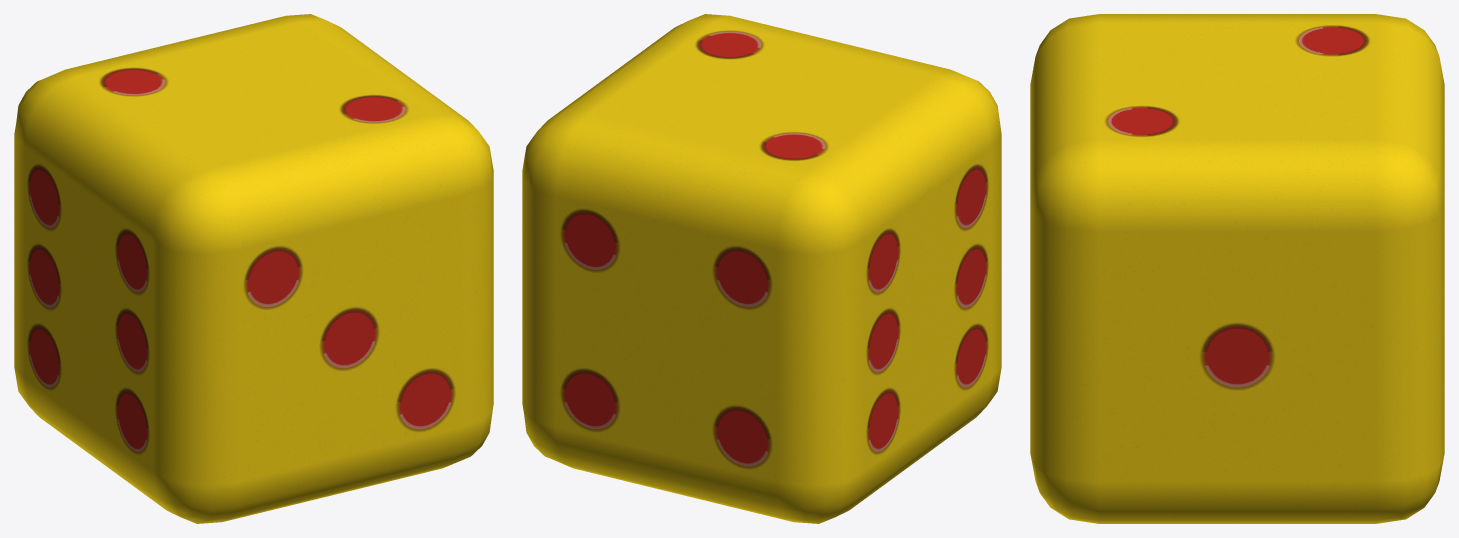
The model's file is dobbelsteen_geel_rode_pips.glb.
3 renders of one model, left to right at view 1: azimuth 30°, elevation 25°; view 2: azimuth 150°, elevation 25°; view 3: azimuth 270°, elevation 25°, orthographic. The views are drawn at different scales.
Parts seen in each view (by area): view 1: dobbelsteen_geel_rode_pips; view 2: dobbelsteen_geel_rode_pips; view 3: dobbelsteen_geel_rode_pips.
Part boxes in pixels (x1,y1,x2,y2): dobbelsteen_geel_rode_pips: [14, 14, 493, 523]; dobbelsteen_geel_rode_pips: [522, 14, 1001, 523]; dobbelsteen_geel_rode_pips: [1030, 14, 1444, 523].
Bounding box in the file's own units: 1 × 1 × 1.
6 materials, 6 textured.
